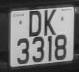1: (45, 35, 55, 64)
3: (14, 36, 33, 66), (31, 36, 46, 64)
8: (53, 33, 69, 64)
D: (27, 8, 44, 39)
K: (43, 7, 57, 38)
